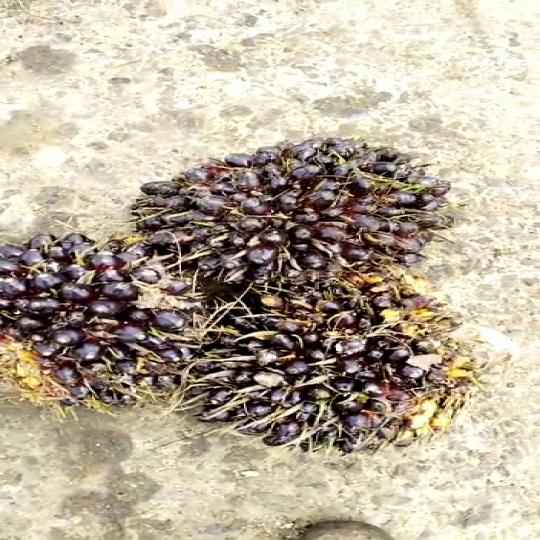mentah: (122, 277, 477, 468), (0, 205, 242, 426), (97, 130, 426, 272)
